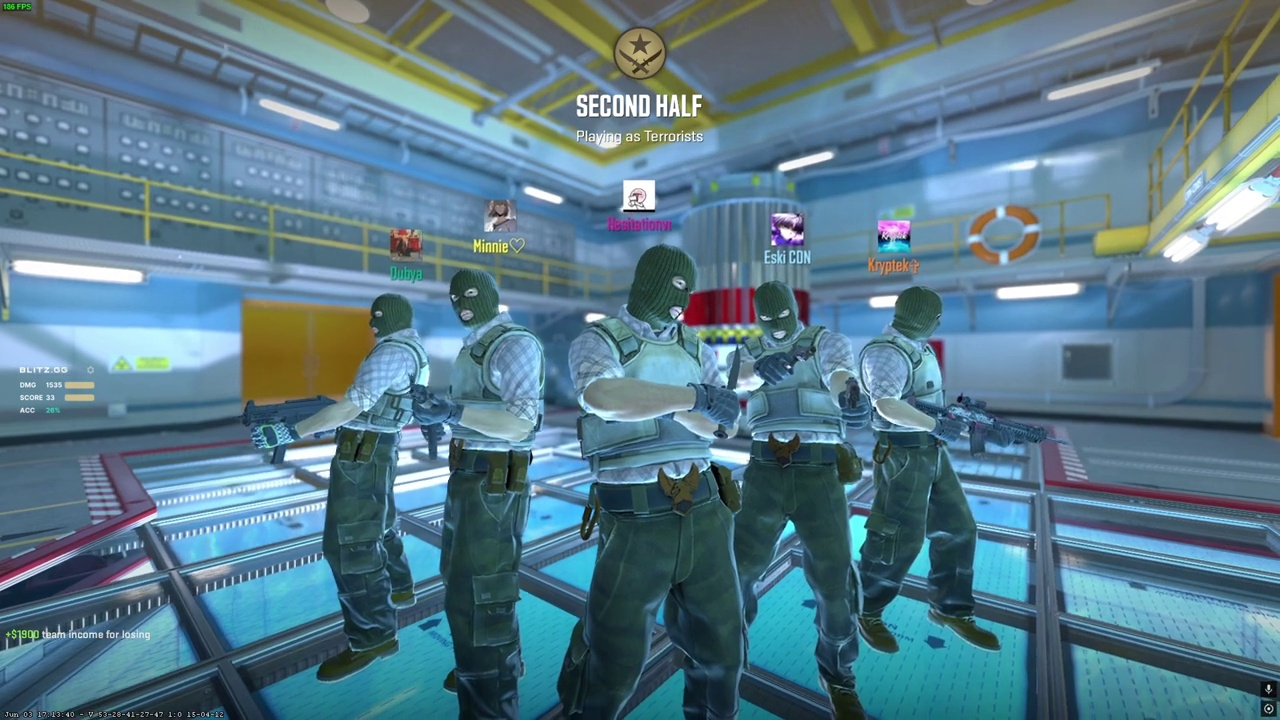Terrorist: (556, 243, 764, 720), (716, 280, 862, 720), (408, 269, 545, 719), (858, 286, 1001, 654), (298, 293, 431, 683)
